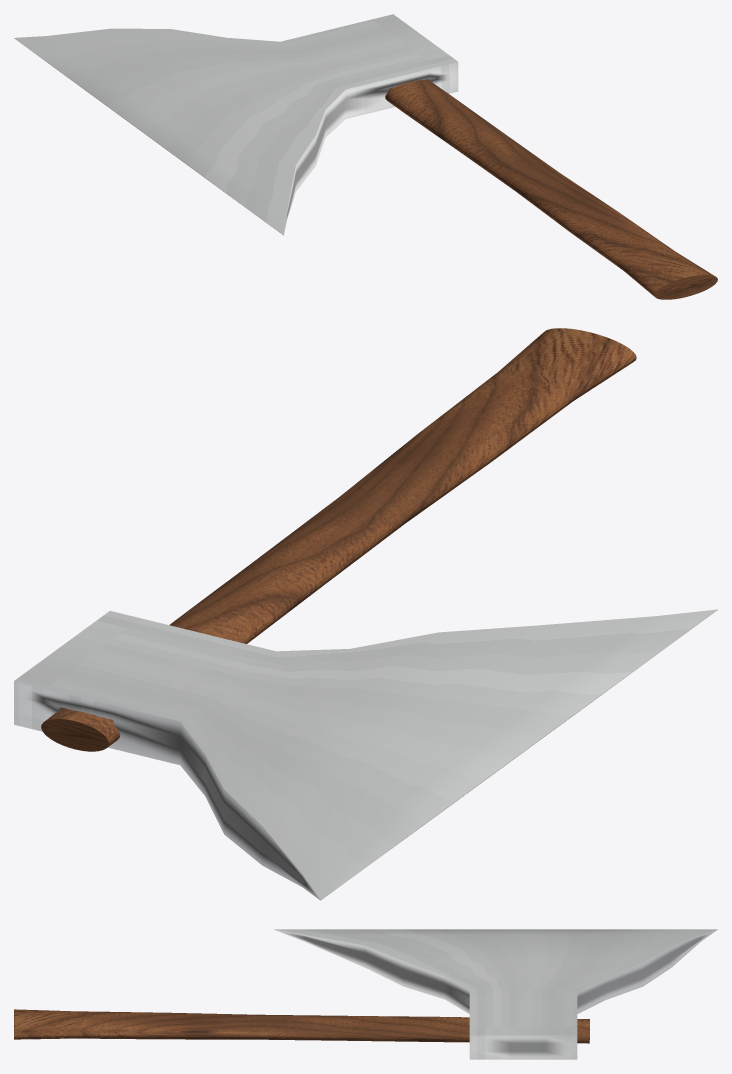
File: hacha1.glb
3 renders of one model, top to bottom at view 1: azimuth 30°, elevation 25°; view 2: azimuth 150°, elevation 25°; view 3: azimuth 270°, elevation 25°, orthographic. The views are drawn at different scales.
Parts seen in each view (by area): view 1: Metal, Palo; view 2: Metal, Palo; view 3: Metal, Palo.
Part boxes in pixels (bbox=[...]): Metal: bbox=[14, 14, 458, 235]; Palo: bbox=[385, 79, 717, 299]; Metal: bbox=[14, 609, 717, 900]; Palo: bbox=[41, 328, 636, 751]; Metal: bbox=[274, 929, 717, 1059]; Palo: bbox=[14, 1009, 589, 1043].
Size of the model in its own units: 4.22 by 0.4214 by 10.63.
Materials: 2 (2 with a texture image).
